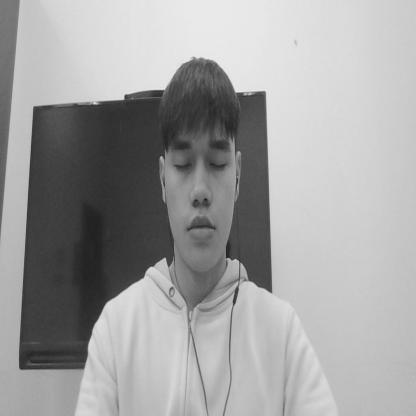Closed-Eyes: (165, 134, 239, 180)
